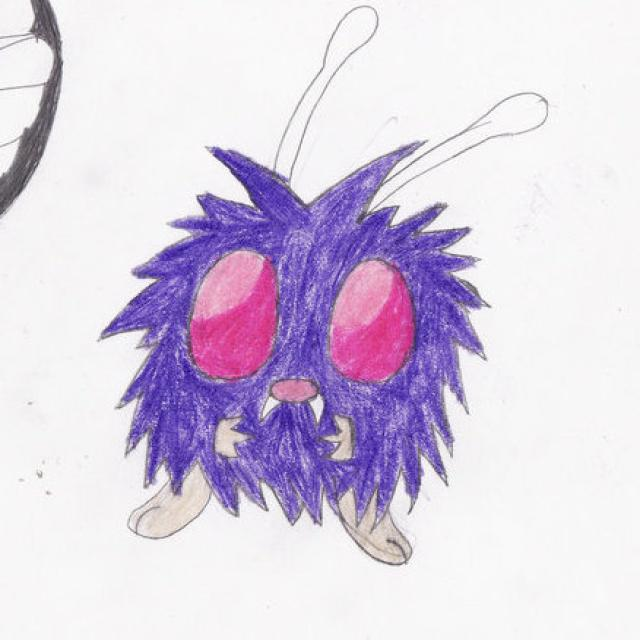Venonat: (127, 110, 506, 542)
